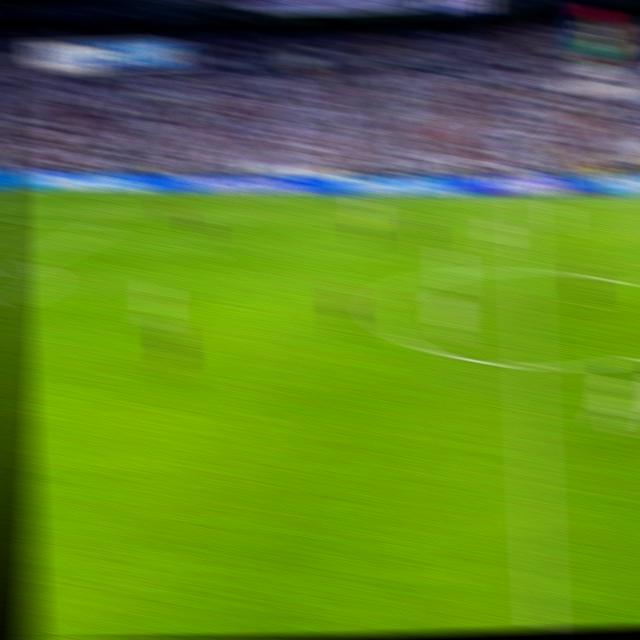bigarea_bottom_outter: (22, 252, 45, 270)
halfcircle_bottom: (515, 349, 543, 379)
halfcircle_top: (512, 257, 538, 282)
midline_top_intersection: (510, 192, 533, 209)
top_arc_area_intersection: (22, 252, 45, 270)
